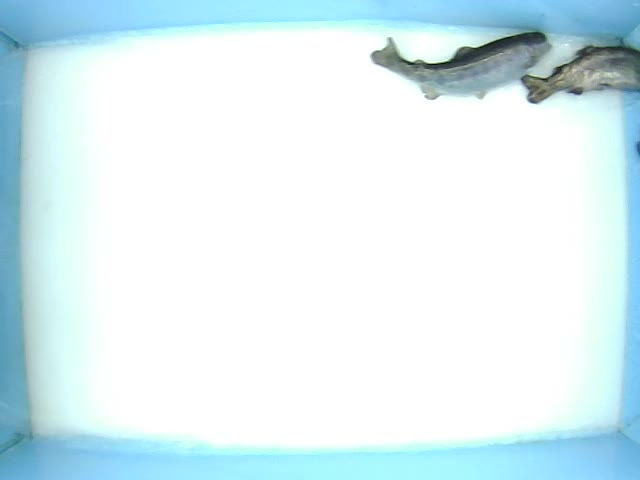fish: (356, 31, 556, 104)
